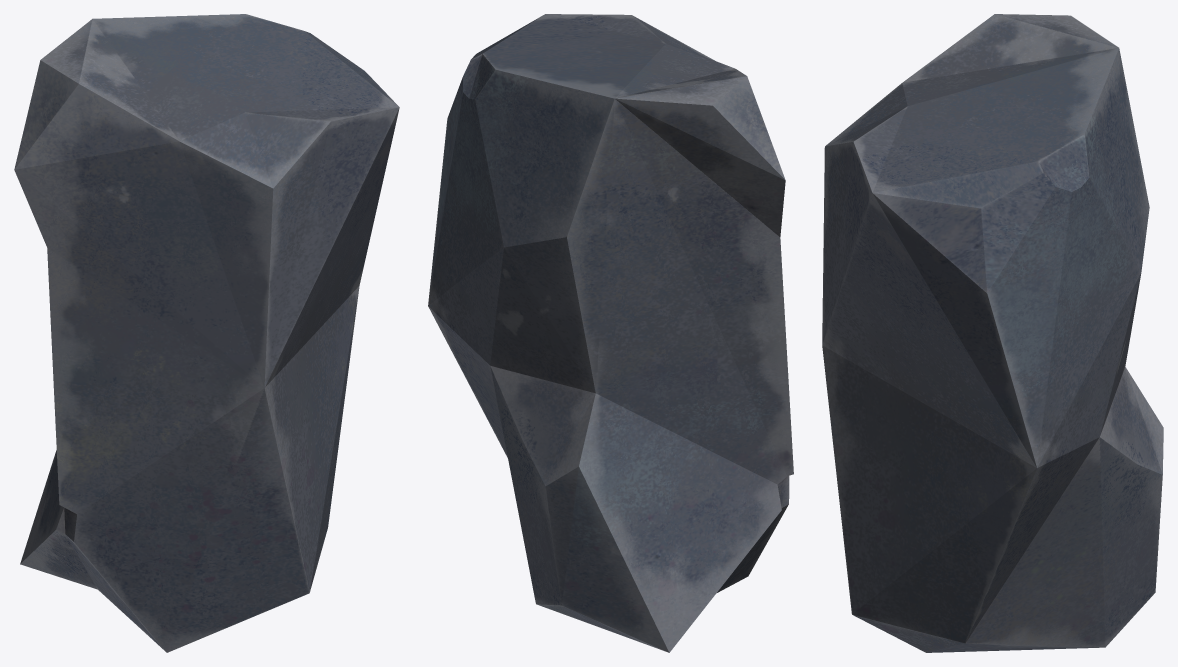
File: stylized_rock_26.fbx
The picture shows the model from 3 angles, left to right: view 1: azimuth 30°, elevation 25°; view 2: azimuth 150°, elevation 25°; view 3: azimuth 270°, elevation 25°; orthographic projection. The views are drawn at different scales.
Visible parts, largest first — view 1: stylized_rock_26; view 2: stylized_rock_26; view 3: stylized_rock_26.
Boxes of the visible parts, x1=… form: stylized_rock_26: x1=14, y1=14, x2=399, y2=652; stylized_rock_26: x1=428, y1=14, x2=793, y2=652; stylized_rock_26: x1=822, y1=14, x2=1163, y2=652.
Bounding box in the file's own units: 94.29 × 139 × 75.11.
